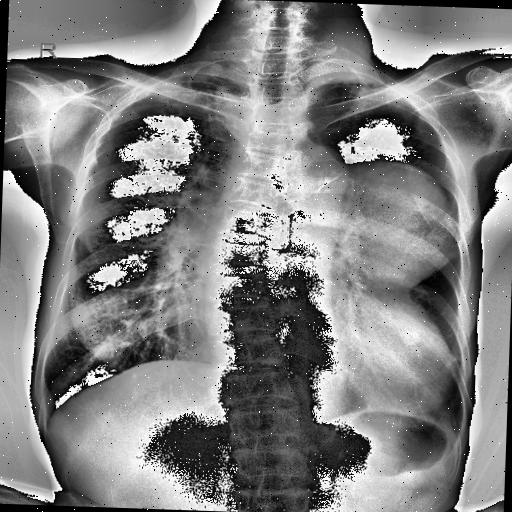0- Aortic enlargement: (279, 149, 350, 216)
11- Pleural thickening: (130, 58, 250, 106), (160, 67, 238, 96), (303, 64, 384, 86), (304, 68, 385, 88)
3- Cardiomegaly: (204, 293, 460, 416), (202, 322, 454, 420)
7- Lung Opacity: (315, 155, 463, 292)
8- Nodule-Mass: (310, 154, 468, 290), (315, 155, 463, 292), (336, 158, 460, 290)
9- Other lesion: (196, 152, 296, 410)
